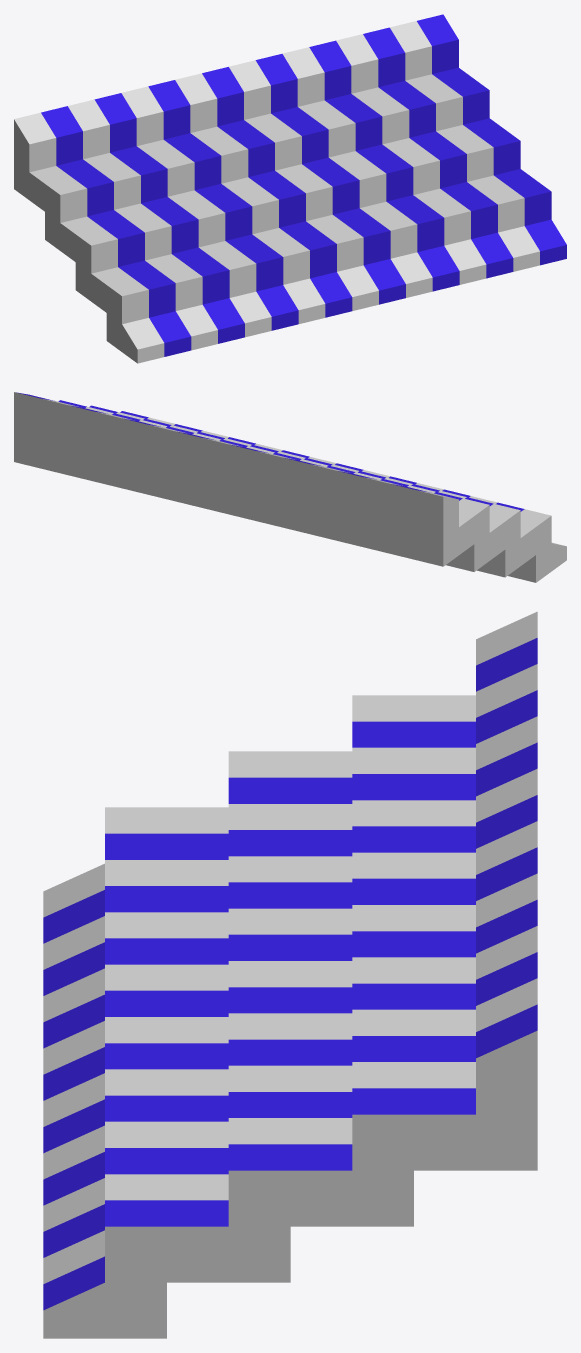
The model's file is tribunes.glb.
3 renders of one model, top to bottom at view 1: azimuth 30°, elevation 25°; view 2: azimuth 150°, elevation 25°; view 3: azimuth 270°, elevation 25°, orthographic. The views are drawn at different scales.
Visible parts, largest first — view 1: Cube; view 2: Cube; view 3: Cube.
Boxes of the visible parts, box(x1,y1,x2,y2) form: Cube: box(14, 14, 566, 363); Cube: box(14, 392, 566, 582); Cube: box(43, 611, 537, 1338).
Bounding box in the file's own units: 32.09 × 11 × 16.
